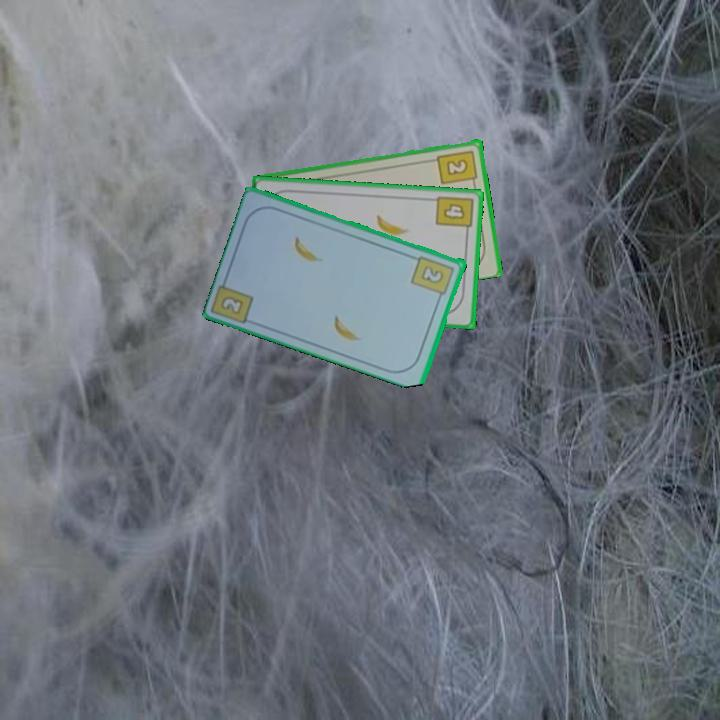2b: (408, 252, 457, 303), (434, 146, 480, 188), (217, 292, 247, 317)
4b: (432, 192, 476, 237)
